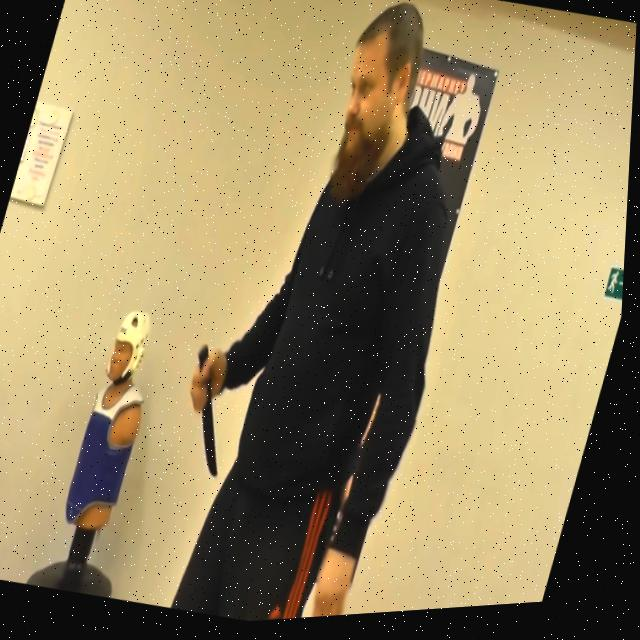knife: (188, 384, 246, 484)
